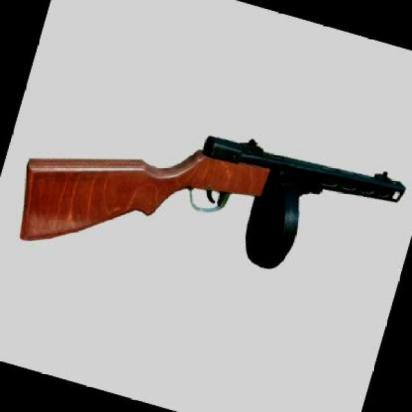Gun: (4, 57, 412, 330)
